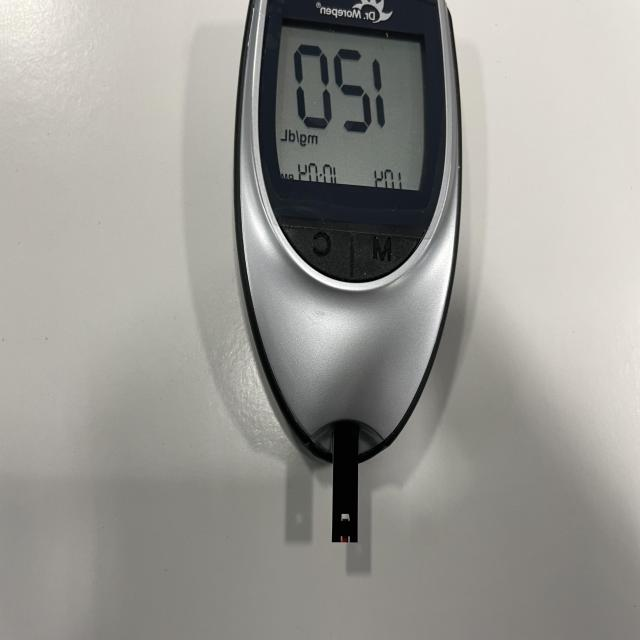gluco: (232, 0, 463, 529)
